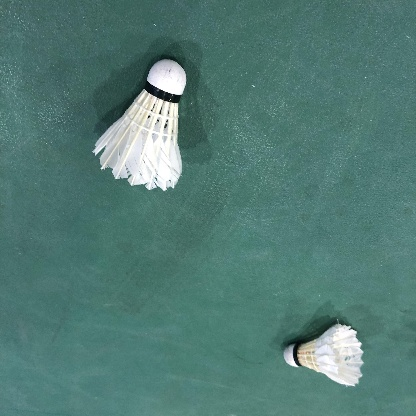ball_single: (92, 60, 187, 191), (283, 324, 363, 386)
